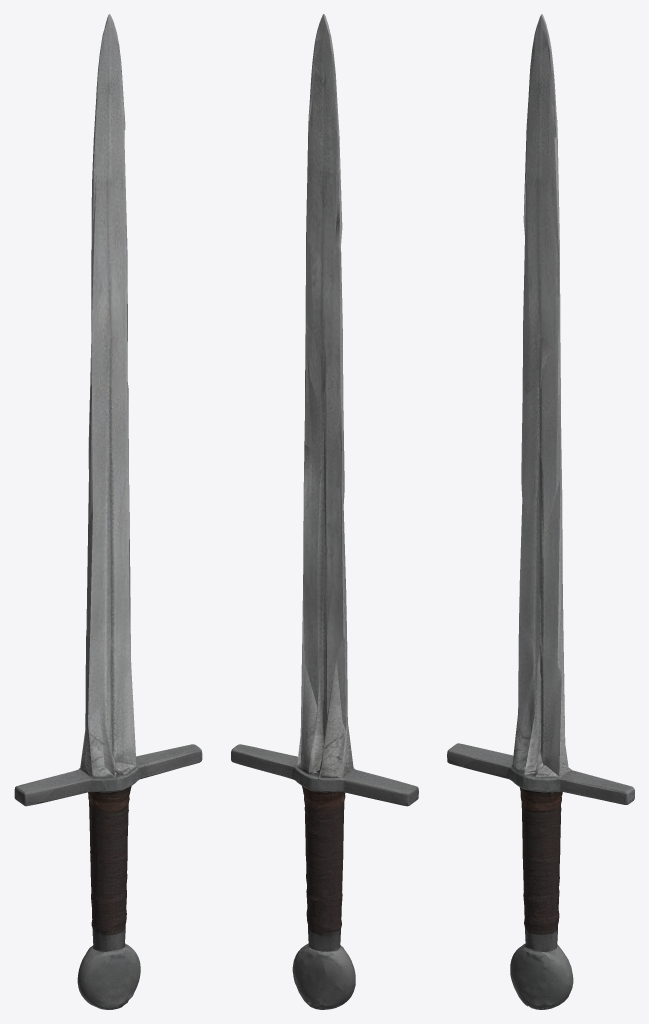
File: arming_sword_p1_w1.glb
3 renders of one model, left to right at view 1: azimuth 30°, elevation 25°; view 2: azimuth 150°, elevation 25°; view 3: azimuth 330°, elevation 25°, orthographic.
Parts seen in each view (by area): view 1: arming_sword_p1_w1; view 2: arming_sword_p1_w1; view 3: arming_sword_p1_w1.
Boxes of the visible parts, x1,y1,x2,y2 form: arming_sword_p1_w1: [14, 14, 202, 1009]; arming_sword_p1_w1: [231, 14, 418, 1009]; arming_sword_p1_w1: [447, 14, 634, 1009].
Bounding box in the file's own units: 0.1784 × 0.94 × 0.046.
Materials: 1 (1 with a texture image).
